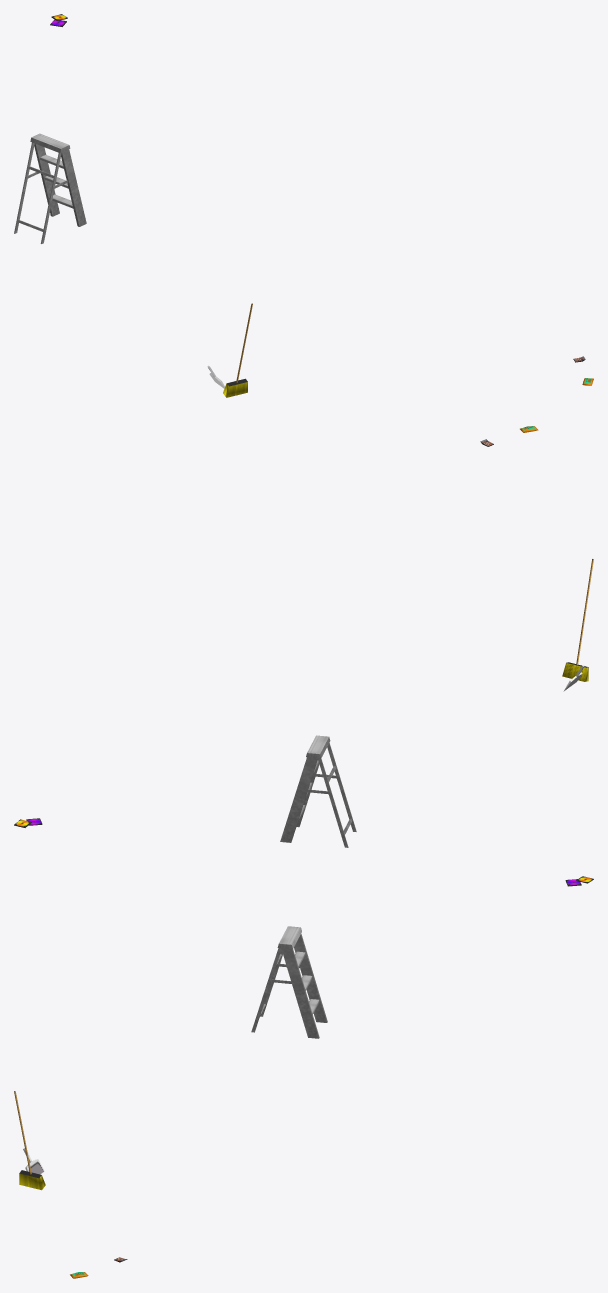
Rendered from SC_Props.fbx.
The picture shows the model from 3 angles, top to bottom: view 1: azimuth 30°, elevation 25°; view 2: azimuth 150°, elevation 25°; view 3: azimuth 330°, elevation 25°; orthographic projection. The views are drawn at different scales.
Parts seen in each view (by area): view 1: SC_Props2, SC_Props; view 2: SC_Props2, SC_Props; view 3: SC_Props2, SC_Props.
Boxes of the visible parts, bbox=[...] form: SC_Props2: bbox=[14, 133, 86, 243]; SC_Props: bbox=[223, 303, 252, 397]; SC_Props2: bbox=[280, 735, 356, 847]; SC_Props: bbox=[562, 559, 593, 681]; SC_Props2: bbox=[251, 926, 327, 1038]; SC_Props: bbox=[14, 1091, 45, 1190].
Size of the model in its own units: 3.73 by 1.54 by 13.94.
